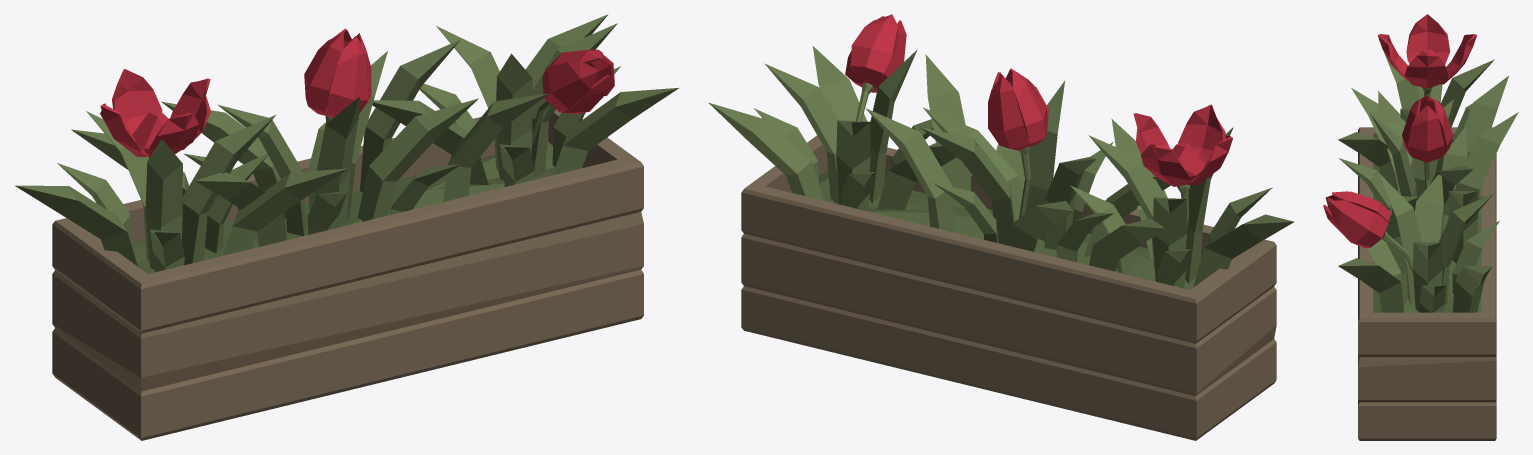
The model's file is SM_Props_Interior_Plant_Window_01.fbx.
3 renders of one model, left to right at view 1: azimuth 30°, elevation 25°; view 2: azimuth 150°, elevation 25°; view 3: azimuth 270°, elevation 25°, orthographic. The views are drawn at different scales.
Visible parts, largest first — view 1: SM_Props_Interior_Plant_Window_01; view 2: SM_Props_Interior_Plant_Window_01; view 3: SM_Props_Interior_Plant_Window_01.
Boxes of the visible parts, x1=… form: SM_Props_Interior_Plant_Window_01: x1=15, y1=14, x2=679, y2=440; SM_Props_Interior_Plant_Window_01: x1=708, y1=14, x2=1294, y2=440; SM_Props_Interior_Plant_Window_01: x1=1323, y1=14, x2=1518, y2=440.
Size of the model in its own units: 249 by 121 by 86.73.
